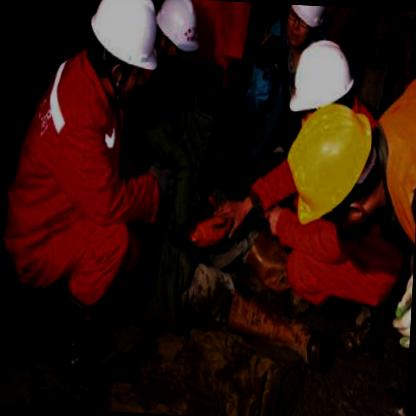helmet: (270, 84, 390, 252), (84, 0, 167, 103), (279, 31, 360, 136), (148, 0, 204, 64), (280, 4, 329, 48)
